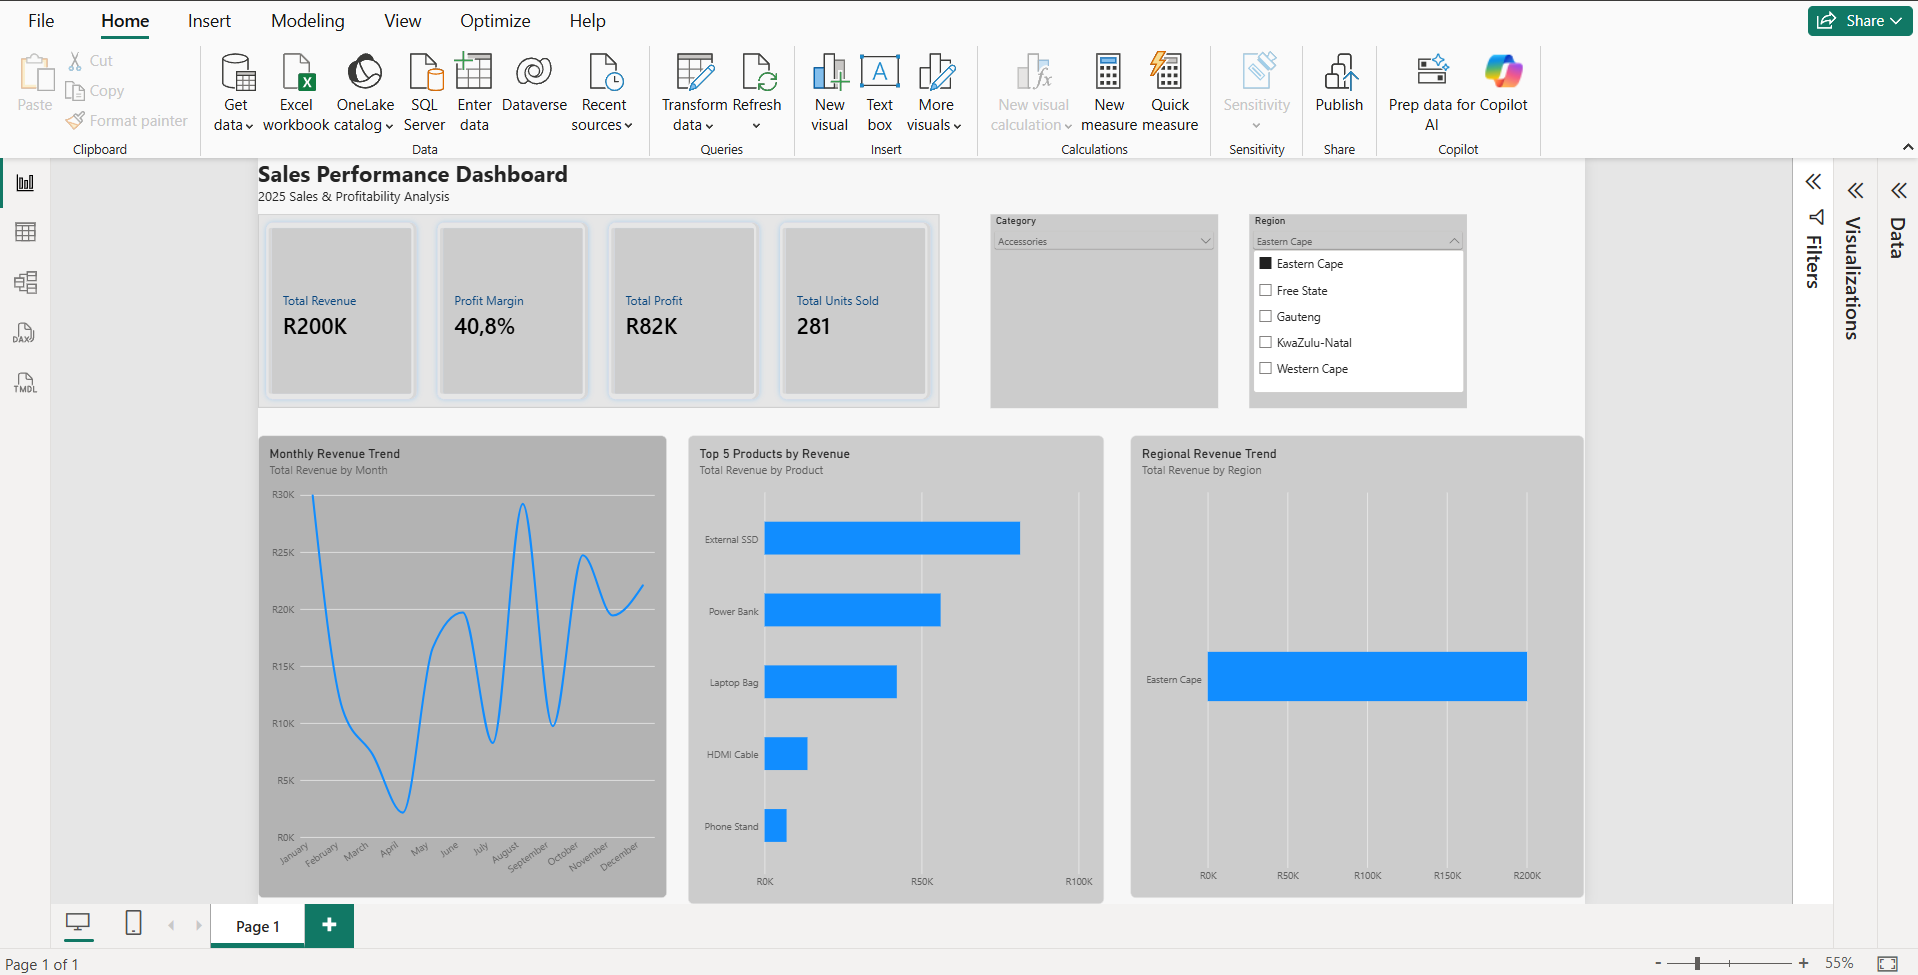

The dashboard page shown, as its layout file describes it:
{"tool":"powerbi","page":{"name":"Page 1","canvas":[1920,1080],"ordinal":0},"visuals":[{"type":"cardVisual","fields":{"Data":["Sales_Data.Total Revenue","Sales_Data.Profit Margin","Sales_Data.Total Profit","Sales_Data.Total Units Sold"]},"box":[0,81.2,988.1,280.5],"z":0},{"type":"lineChart","title":"Monthly Revenue Trend","fields":{"Category":["Sales_Data.Order Date.Variation.Date Hierarchy.Year","Sales_Data.Order Date.Variation.Date Hierarchy.Quarter","Sales_Data.Order Date.Variation.Date Hierarchy.Month","Sales_Data.Order Date.Variation.Date Hierarchy.Day"],"Y":["Sales_Data.Total Revenue"]},"box":[0,401.7,591.8,669.6],"z":1},{"type":"clusteredBarChart","title":"Regional Revenue Trend","fields":{"Category":["Sales_Data.Region"],"Y":["Sales_Data.Total Revenue"]},"box":[1263.1,401.7,656.9,669.6],"z":2},{"type":"clusteredBarChart","title":"Top 5 Products by Revenue","fields":{"Category":["Sales_Data.Product"],"Y":["Sales_Data.Total Revenue"]},"box":[622.5,401.7,602.6,678.6],"z":3},{"type":"slicer","fields":{"Values":["Sales_Data.Region"]},"box":[1435.1,81.4,314.9,280.5],"z":4},{"type":"slicer","fields":{"Values":["Sales_Data.Category"]},"box":[1060.5,81.4,329.4,280.5],"z":5},{"type":"textbox","box":[0,0,470.5,161.1],"z":6}]}

Visuals, with their boxes on the page's 1920x1080 design canvas (x1, y1, x2, y2). These are canvas units, not pixel positions in the 1918x975 screenshot, which may show the page scaled, cropped or inside an application window:
cardVisual - Sales_Data.Total Revenue x Sales_Data.Profit Margin: [0, 81, 988, 362]
"Monthly Revenue Trend" lineChart: [0, 402, 592, 1071]
"Regional Revenue Trend" clusteredBarChart: [1263, 402, 1920, 1071]
"Top 5 Products by Revenue" clusteredBarChart: [622, 402, 1225, 1080]
slicer - Sales_Data.Region: [1435, 81, 1750, 362]
slicer - Sales_Data.Category: [1060, 81, 1390, 362]
textbox: [0, 0, 470, 161]
